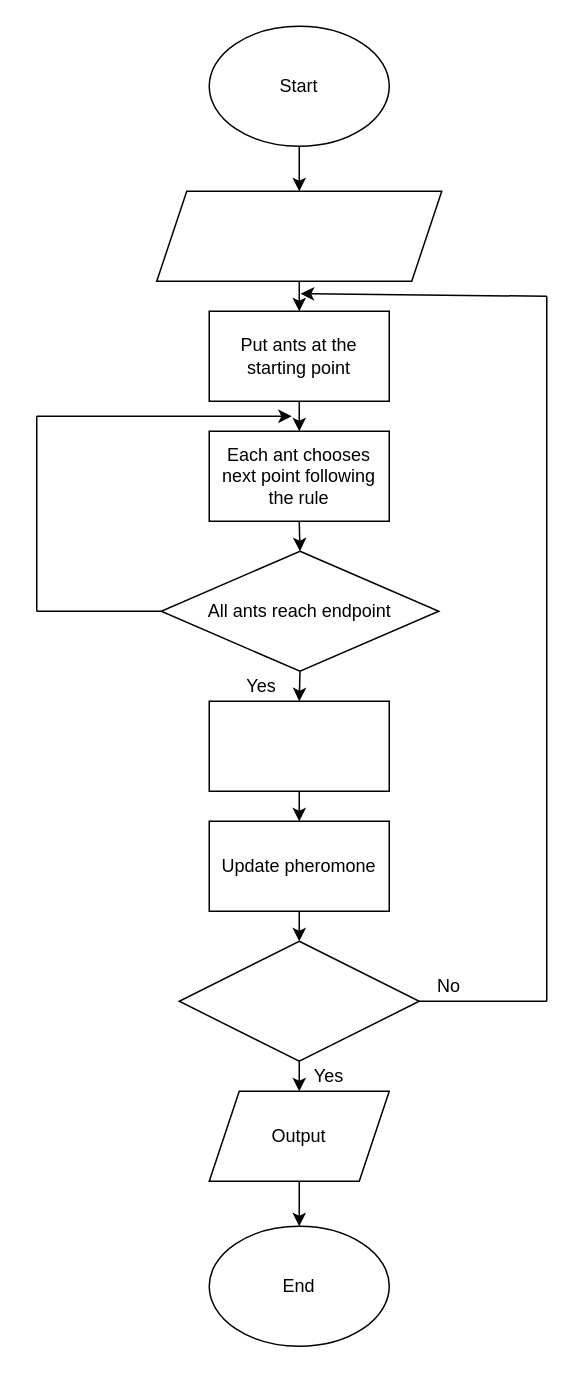
Some shapes in this 585 by 1373 pixel diagram are drawn without their labels. Here are the shapes that lost their labels. From the top down, the centre of each, then its label:
[298,235]: Initialization
[298,745]: Calculate path cost, record optimal path
[298,1000]: Maximal Cycle Index
